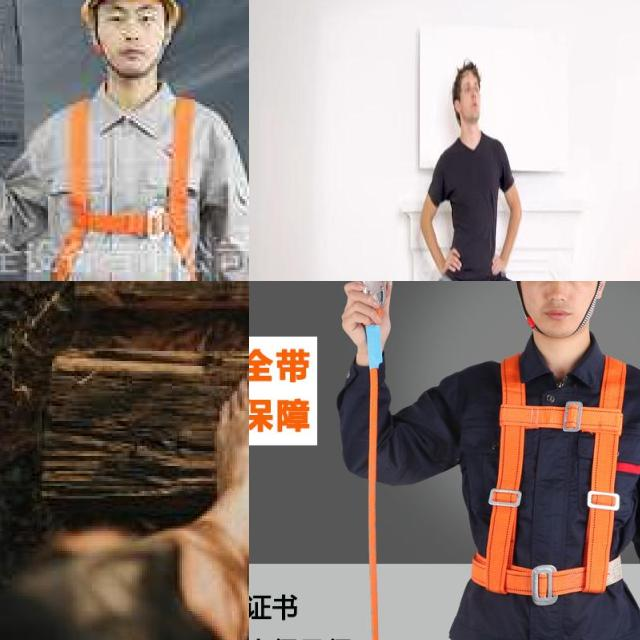Barefoots: (188, 352, 249, 573)
Harness: (466, 356, 640, 603), (36, 89, 216, 281)
No_Ear-Protection: (445, 94, 464, 116)
face_nomask: (464, 95, 484, 118)
hand_noglove: (430, 239, 468, 281), (485, 246, 509, 280)
person: (359, 57, 576, 281)
